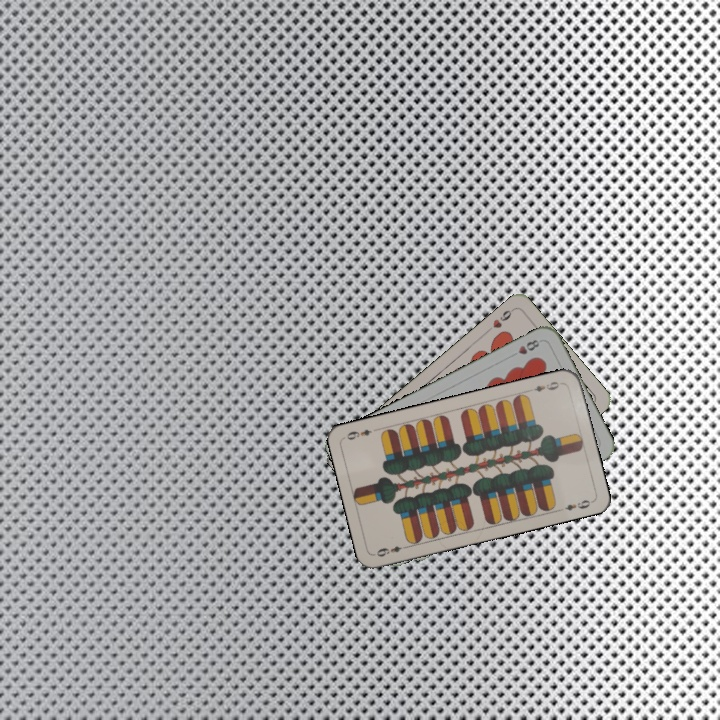E9: (525, 377, 565, 394), (372, 542, 411, 559)
H8: (506, 335, 542, 360)
H9: (483, 305, 517, 335)
